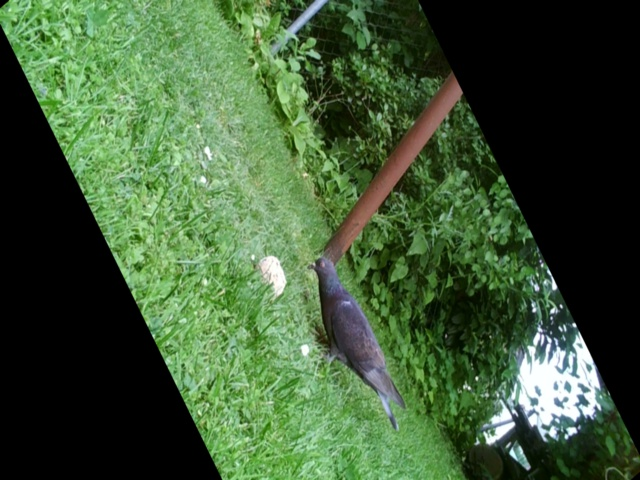Pigeon: (304, 252, 419, 441)
